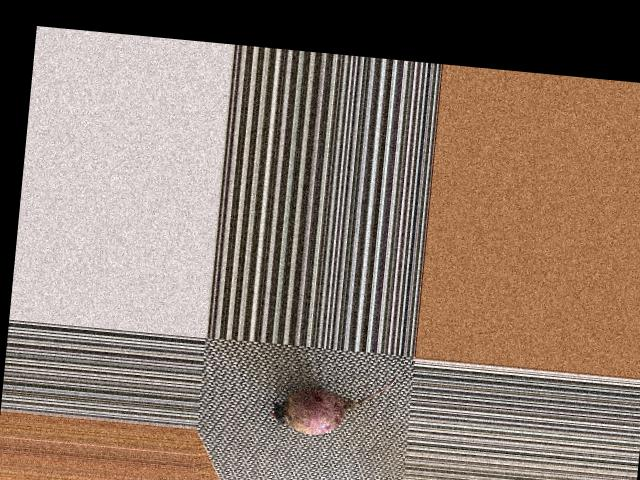beet: (267, 362, 398, 441)
